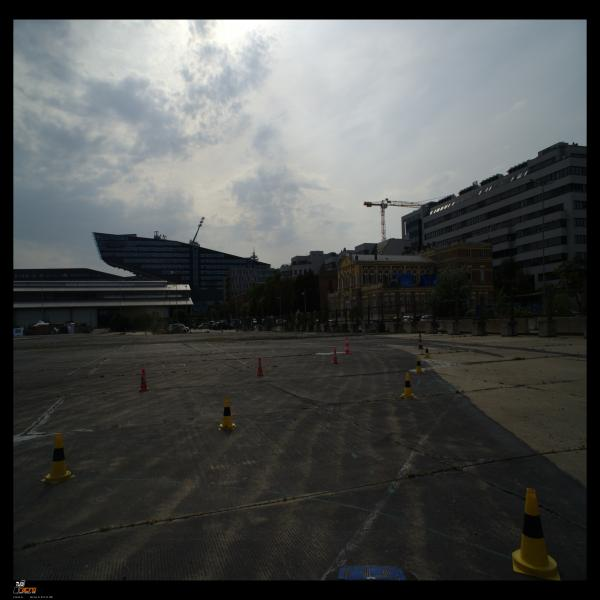large_orange_cone: (344, 337, 351, 354), (417, 334, 424, 350)
orange_cone: (138, 368, 149, 392), (256, 357, 264, 376), (331, 349, 339, 364)
yellow_cone: (512, 488, 561, 580), (41, 433, 75, 484), (218, 397, 236, 430), (401, 373, 416, 398), (414, 356, 424, 373), (424, 345, 430, 358)
